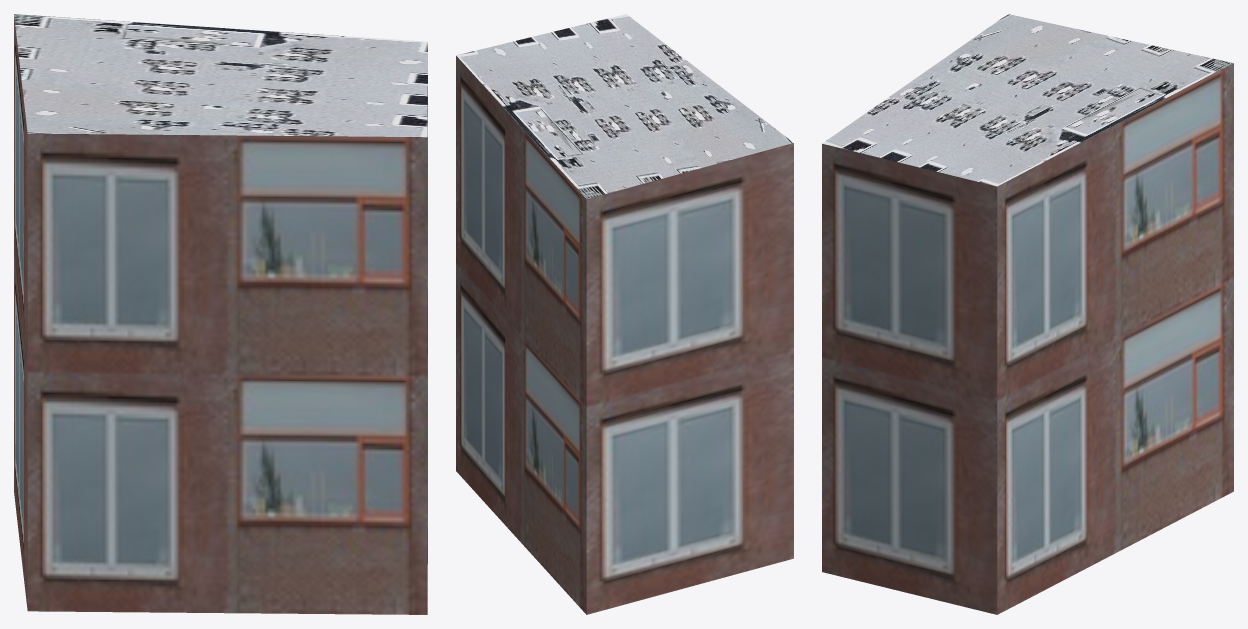
File: ResTex__633.fbx
The picture shows the model from 3 angles, left to right: view 1: azimuth 30°, elevation 25°; view 2: azimuth 150°, elevation 25°; view 3: azimuth 270°, elevation 25°; orthographic projection. The views are drawn at different scales.
Parts seen in each view (by area): view 1: CityEngineMaterial_19_m, CityEngineMaterial_15_m; view 2: CityEngineMaterial_19_m, CityEngineMaterial_15_m; view 3: CityEngineMaterial_19_m, CityEngineMaterial_15_m.
Boxes of the visible parts, x1,y1,x2,y2 form: CityEngineMaterial_19_m: (14,15,427,614); CityEngineMaterial_15_m: (14,14,427,137); CityEngineMaterial_19_m: (456,56,793,614); CityEngineMaterial_15_m: (456,14,793,199); CityEngineMaterial_19_m: (822,63,1233,614); CityEngineMaterial_15_m: (822,14,1233,186).
Size of the model in its own units: 5.18 by 6 by 5.23.
Materials: 2 (2 with a texture image).
